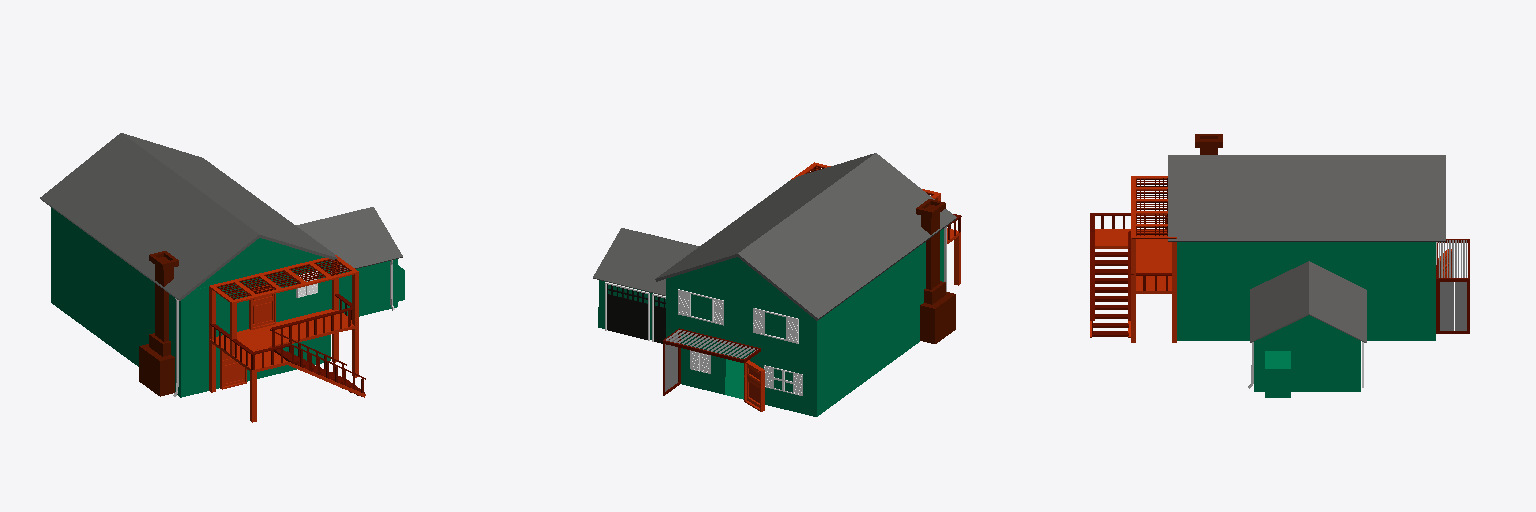
File: CasaVerde.obj
The picture shows the model from 3 angles: view 1: azimuth 30°, elevation 25°; view 2: azimuth 150°, elevation 25°; view 3: azimuth 270°, elevation 25°; orthographic projection.
Parts seen in each view (by area): view 1: Plane.006_Grey_ROof.001, Cube.006_Green_House, Cube.004_Green_House, Plane.005_Grey_ROof.001, Plane.007_Grey_ROof.001, Cube.007_Brick, Cube.008_Green_House, Plane.044_Light_Wood, Plane.039_Dark_Wood.001, Plane.096_Light_Wood, Plane.095_Light_Wood, Plane.043_Light_Wood (+1 smaller); view 2: Plane.006_Grey_ROof.001, Cube.006_Green_House, Cube.004_Green_House, Plane.005_Grey_ROof.001, Plane.008_Grey_ROof.001, Cube.007_Brick, Plane.104_garage, Cube.045_whitw_wood, Plane.074_Light_Wood_Light_Wood.001, Cube.045_Dark_Wood.001, Cube.008_Green_House; view 3: Plane.005_Grey_ROof.001, Cube.006_Green_House, Cube.004_Green_House, Cube.008_Green_House, Plane.007_Grey_ROof.001, Plane.008_Grey_ROof.001, Plane.040_Dark_Wood.001, Cube.045_whitw_wood, Plane.044_Light_Wood, Cube.009_Green_House, Plane.039_Dark_Wood.001, Cube.045_Dark_Wood.001 (+1 smaller).
Boxes of the visible parts, <box> form: Plane.006_Grey_ROof.001: <box>40,133,259,300</box>; Cube.006_Green_House: <box>51,207,330,344</box>; Cube.004_Green_House: <box>51,251,330,397</box>; Plane.005_Grey_ROof.001: <box>122,133,337,259</box>; Plane.007_Grey_ROof.001: <box>296,207,402,273</box>; Cube.007_Brick: <box>139,251,178,396</box>; Cube.008_Green_House: <box>331,259,397,316</box>; Plane.044_Light_Wood: <box>210,309,354,357</box>; Plane.039_Dark_Wood.001: <box>217,259,350,299</box>; Plane.096_Light_Wood: <box>249,283,275,329</box>; Plane.095_Light_Wood: <box>220,350,246,389</box>; Plane.043_Light_Wood: <box>232,347,287,372</box>; Plane.006_Grey_ROof.001: <box>736,153,956,320</box>; Cube.006_Green_House: <box>666,229,943,364</box>; Cube.004_Green_House: <box>666,272,943,416</box>; Plane.005_Grey_ROof.001: <box>655,153,874,281</box>; Plane.008_Grey_ROof.001: <box>593,228,697,295</box>; Cube.007_Brick: <box>916,199,955,343</box>; Plane.104_garage: <box>607,284,647,339</box>; Cube.045_whitw_wood: <box>665,330,757,391</box>; Plane.074_Light_Wood_Light_Wood.001: <box>744,360,764,411</box>; Cube.045_Dark_Wood.001: <box>663,328,760,395</box>; Cube.008_Green_House: <box>598,280,665,339</box>; Plane.005_Grey_ROof.001: <box>1168,155,1445,241</box>; Cube.006_Green_House: <box>1177,242,1435,288</box>; Cube.004_Green_House: <box>1177,289,1435,340</box>; Cube.008_Green_House: <box>1254,315,1360,391</box>; Plane.007_Grey_ROof.001: <box>1250,261,1308,342</box>; Plane.008_Grey_ROof.001: <box>1309,261,1366,342</box>; Plane.040_Dark_Wood.001: <box>1092,252,1128,336</box>; Cube.045_whitw_wood: <box>1439,240,1466,330</box>; Plane.044_Light_Wood: <box>1135,230,1171,293</box>; Cube.009_Green_House: <box>1265,351,1290,397</box>; Plane.039_Dark_Wood.001: <box>1132,178,1175,238</box>; Cube.045_Dark_Wood.001: <box>1436,239,1469,333</box>.
Size of the model in its own units: 15.99 by 8.14 by 18.52.